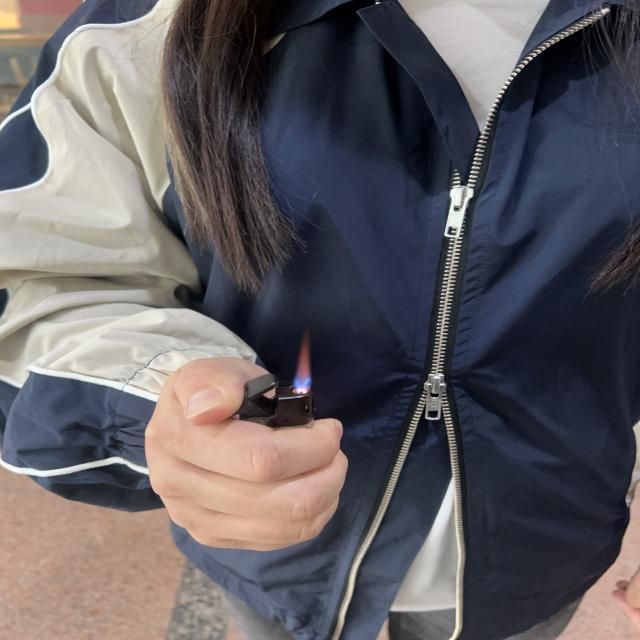fire: (294, 332, 310, 394)
